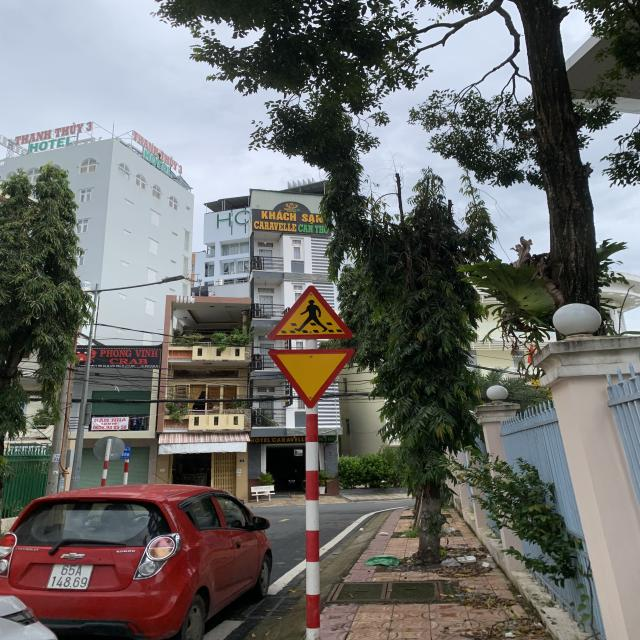Duong_Nguoi_Di_Bo_Sang_Ngang: (266, 285, 357, 341)
Gioi_Han_Toc_Do_25: (266, 347, 354, 404)
